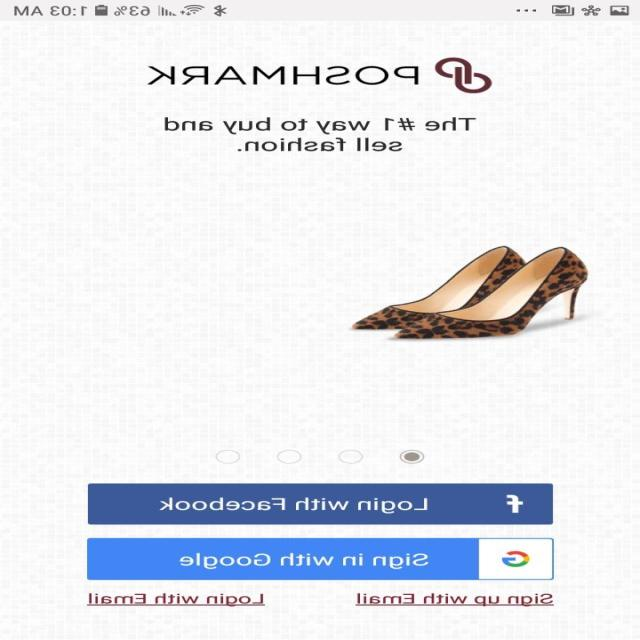Image: (351, 245, 589, 339), (435, 57, 493, 94)
Text: (164, 116, 476, 152), (146, 66, 420, 86), (356, 592, 554, 606), (87, 592, 266, 606)
TextButton: (88, 538, 555, 580), (88, 483, 554, 524)
